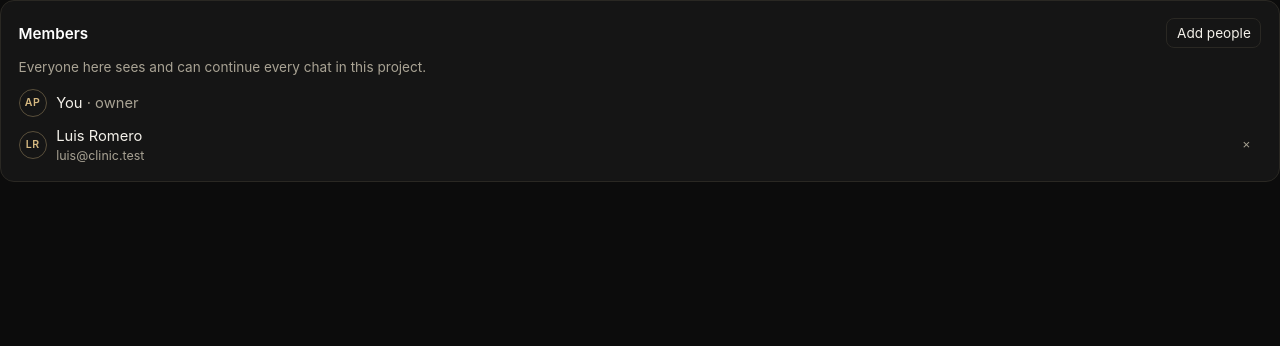
Test: ProjectMembers › lists the owner and the members; the owner picks colleagues from the directory, leaving out who is already in
Later steps or results of the test are not shown.
Expected: the heading "Members" is shown, 19,24 -> 88,42
Expected: the text "You · owner" is shown, 56,94 -> 138,112
Click the button "Add people" at (1214, 33), box 1166,18 -> 1261,48
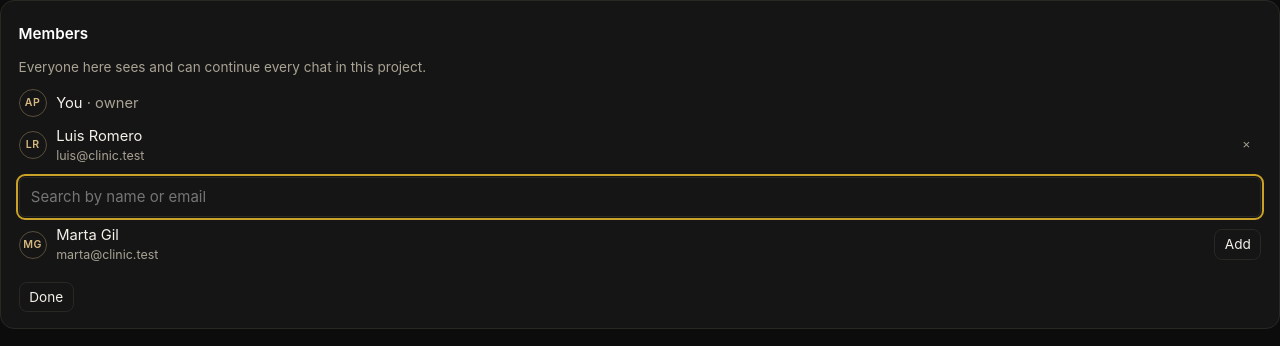
Expected: the button with aria-label "Add Marta Gil" is shown, 1214,230 -> 1261,260
Type "zzz" into the search field with placeholder "Search by name or email" at (640, 197), box 19,177 -> 1261,217
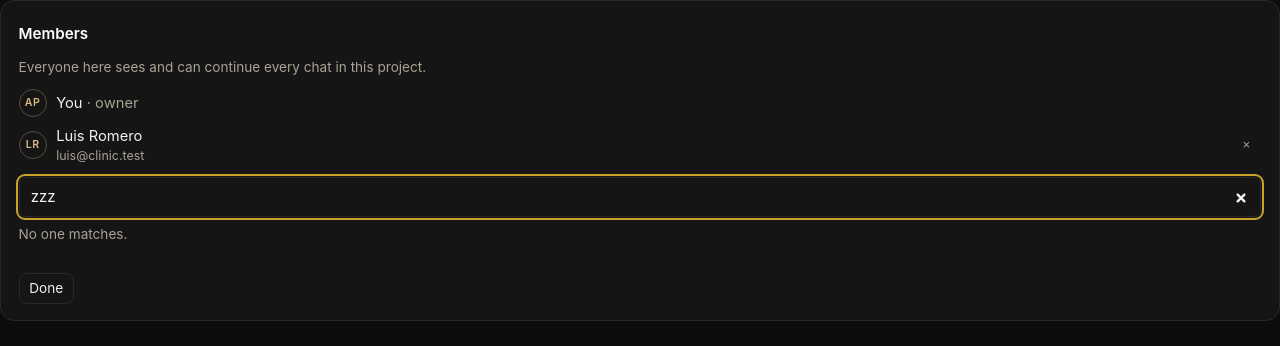
Expected: the text "No one matches." is shown, 19,226 -> 127,242
